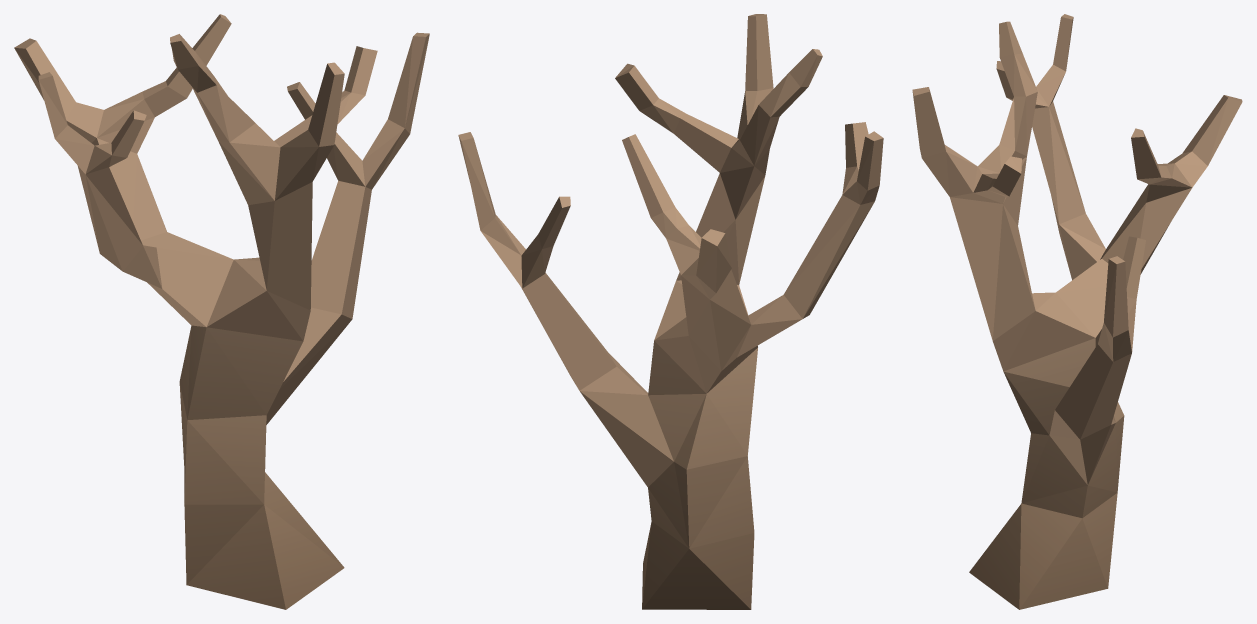
Rendered from CleanBark1.fbx.
3 renders of one model, left to right at view 1: azimuth 30°, elevation 25°; view 2: azimuth 150°, elevation 25°; view 3: azimuth 270°, elevation 25°, orthographic. The views are drawn at different scales.
Parts seen in each view (by area): view 1: CleanBark1; view 2: CleanBark1; view 3: CleanBark1.
Part boxes in pixels (bbox=[...]): CleanBark1: bbox=[14, 14, 429, 609]; CleanBark1: bbox=[458, 14, 883, 609]; CleanBark1: bbox=[912, 14, 1242, 609].
Bounding box in the file's own units: 273 × 361 × 210.
